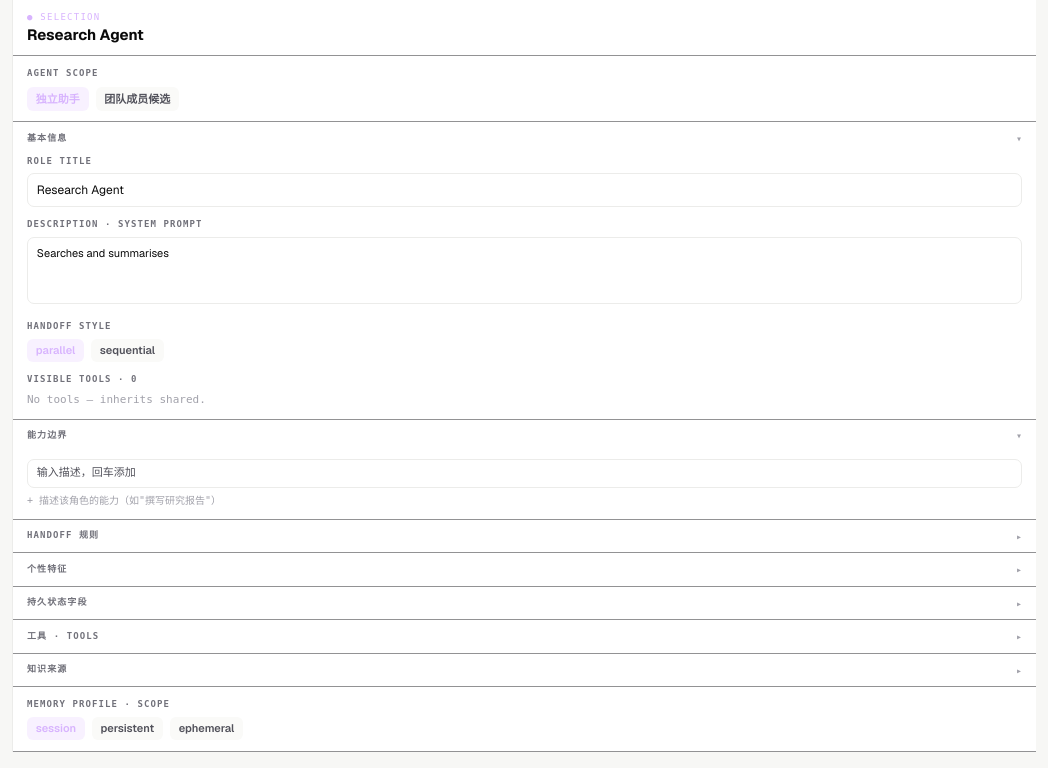
AC6 — 写回格式 › 基本信息编辑写回 name 字段（snake_case）
Clear the field with test id "insp-role-title" at (524, 190), box [27,173,1022,207]
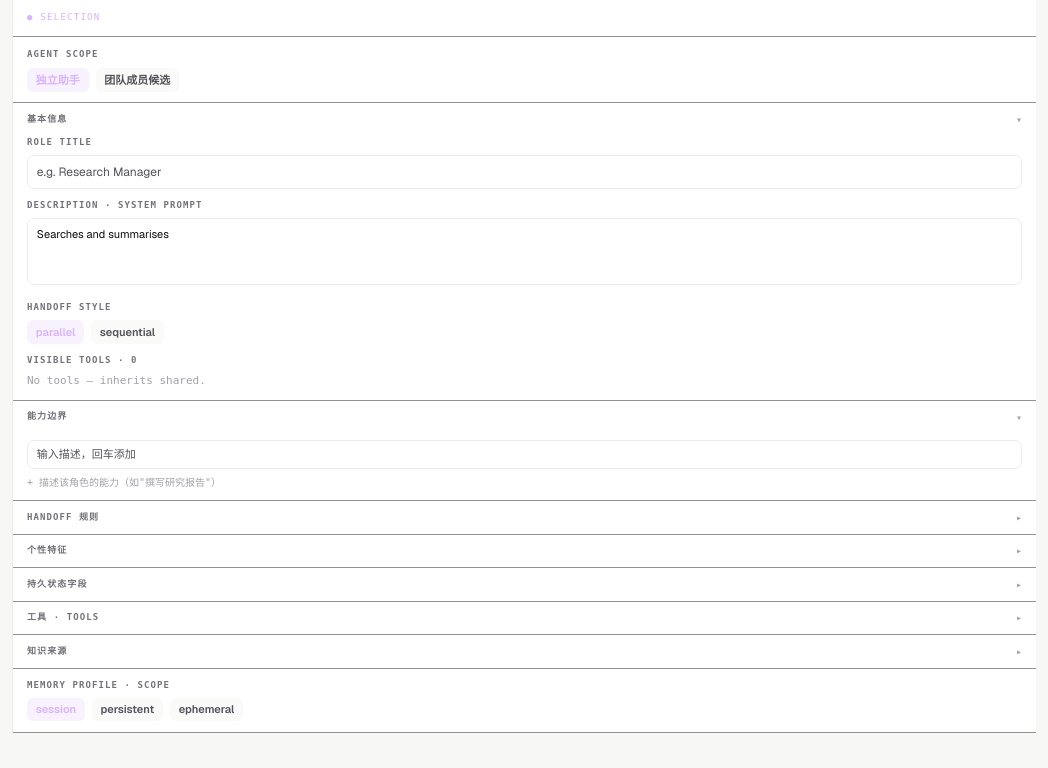
Type "New Title" into the field with test id "insp-role-title" at (524, 172), box [27,154,1022,188]
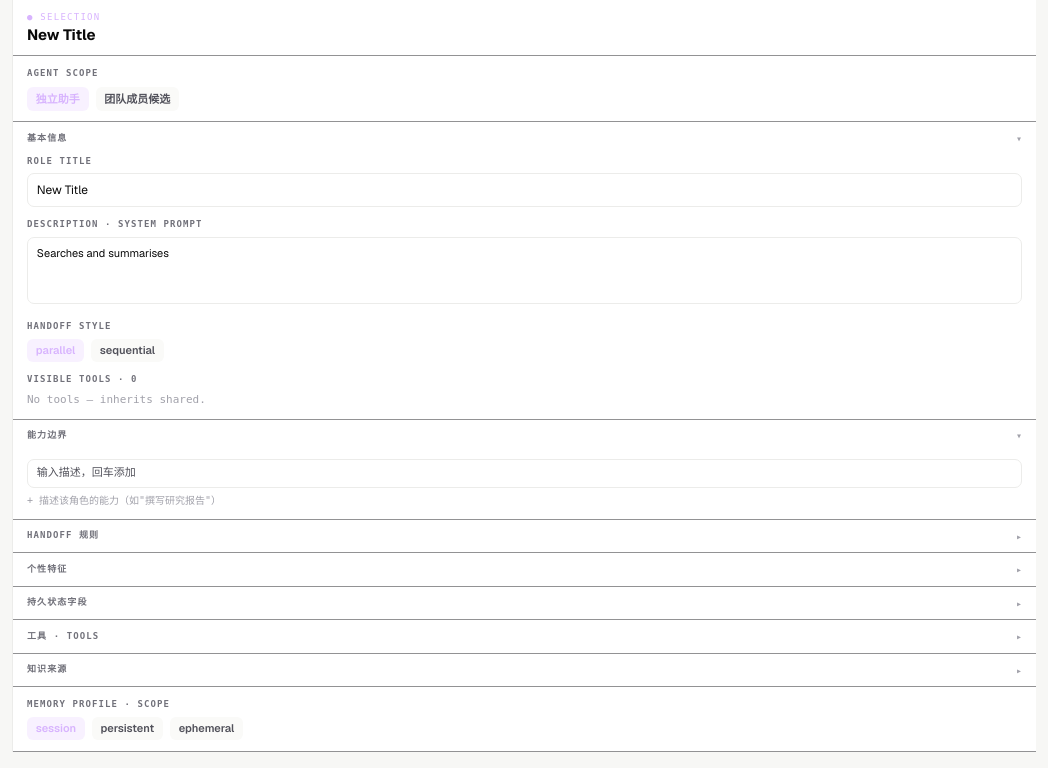
Now the text "New Title" is shown, box [27,26,96,45]
